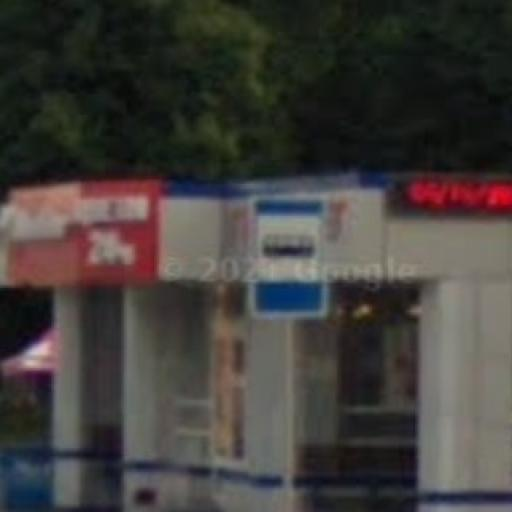traffic_sign: (249, 196, 330, 324)
